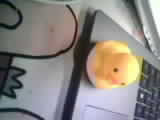duck: (86, 27, 142, 93)
